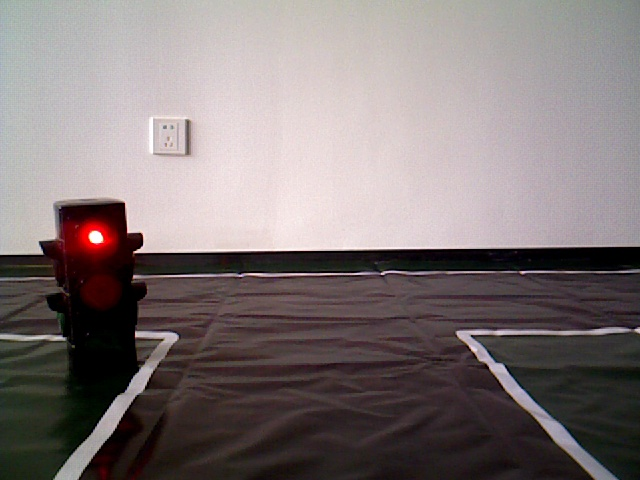red: (57, 203, 134, 371)
